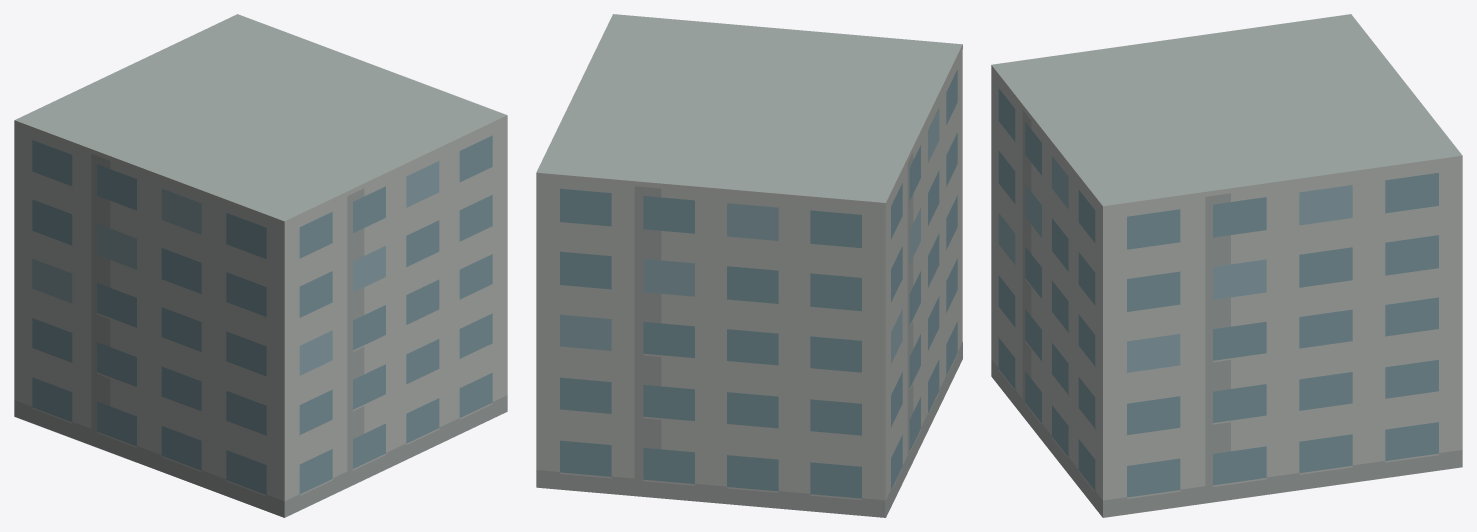
File: residential-1beb86b0-1c11-47fd-a2a5-19664255fbdc.glb
3 renders of one model, left to right at view 1: azimuth 30°, elevation 25°; view 2: azimuth 150°, elevation 25°; view 3: azimuth 270°, elevation 25°, orthographic. The views are drawn at different scales.
Parts seen in each view (by area): view 1: residential-1beb86b0-1c11-47fd-a2a5-19664255fbdc.tmp; view 2: residential-1beb86b0-1c11-47fd-a2a5-19664255fbdc.tmp; view 3: residential-1beb86b0-1c11-47fd-a2a5-19664255fbdc.tmp.
Part boxes in pixels (<box>): residential-1beb86b0-1c11-47fd-a2a5-19664255fbdc.tmp: <box>14,14,507,517</box>; residential-1beb86b0-1c11-47fd-a2a5-19664255fbdc.tmp: <box>536,14,962,517</box>; residential-1beb86b0-1c11-47fd-a2a5-19664255fbdc.tmp: <box>991,14,1462,517</box>.
Size of the model in its own units: 20.19 by 15.25 by 20.92.
